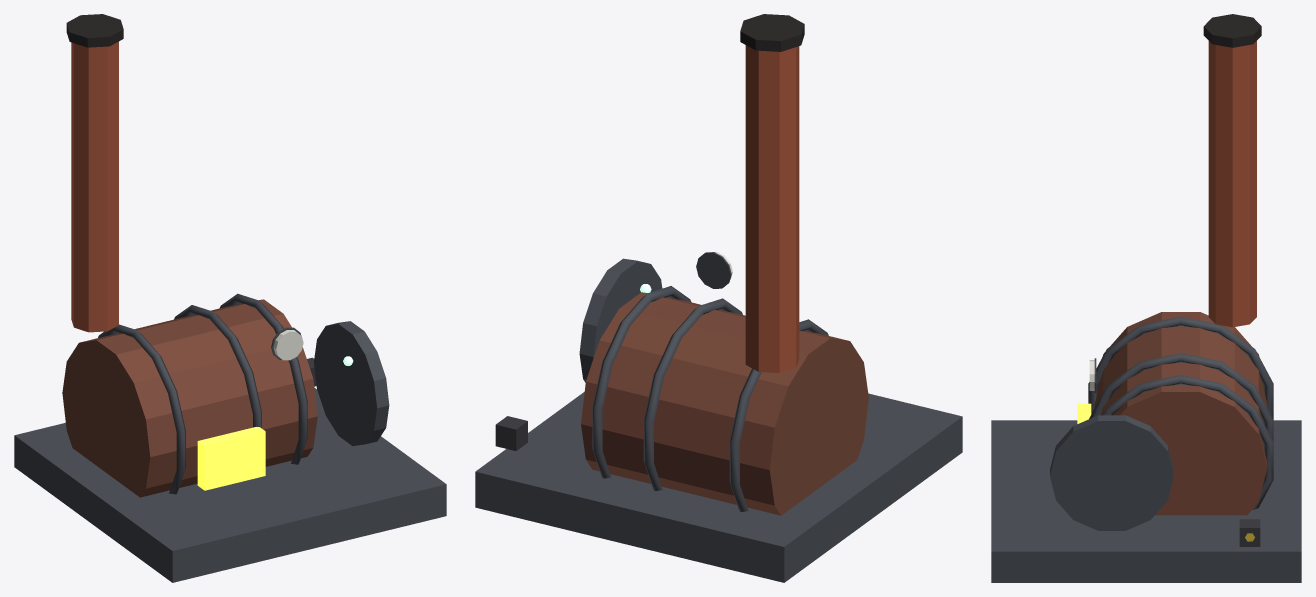
The model's file is SteamGenerator@Run.fbx.
3 views of the same model, side by side, from view 1: azimuth 30°, elevation 25°; view 2: azimuth 150°, elevation 25°; view 3: azimuth 270°, elevation 25° (orthographic). The views are drawn at different scales.
Visible parts, largest first — view 1: SteamGenerator_Body, SteamGenerator_Flywheel; view 2: SteamGenerator_Body, SteamGenerator_Flywheel; view 3: SteamGenerator_Body, SteamGenerator_Flywheel.
Part boxes in pixels (x1,y1,x2,y2): SteamGenerator_Body: (14, 14, 446, 582); SteamGenerator_Flywheel: (314, 321, 389, 446); SteamGenerator_Body: (475, 14, 962, 582); SteamGenerator_Flywheel: (579, 258, 662, 382); SteamGenerator_Body: (991, 14, 1301, 582); SteamGenerator_Flywheel: (1050, 415, 1173, 530).
Bounding box in the file's own units: 0.91 × 1.46 × 0.9.
